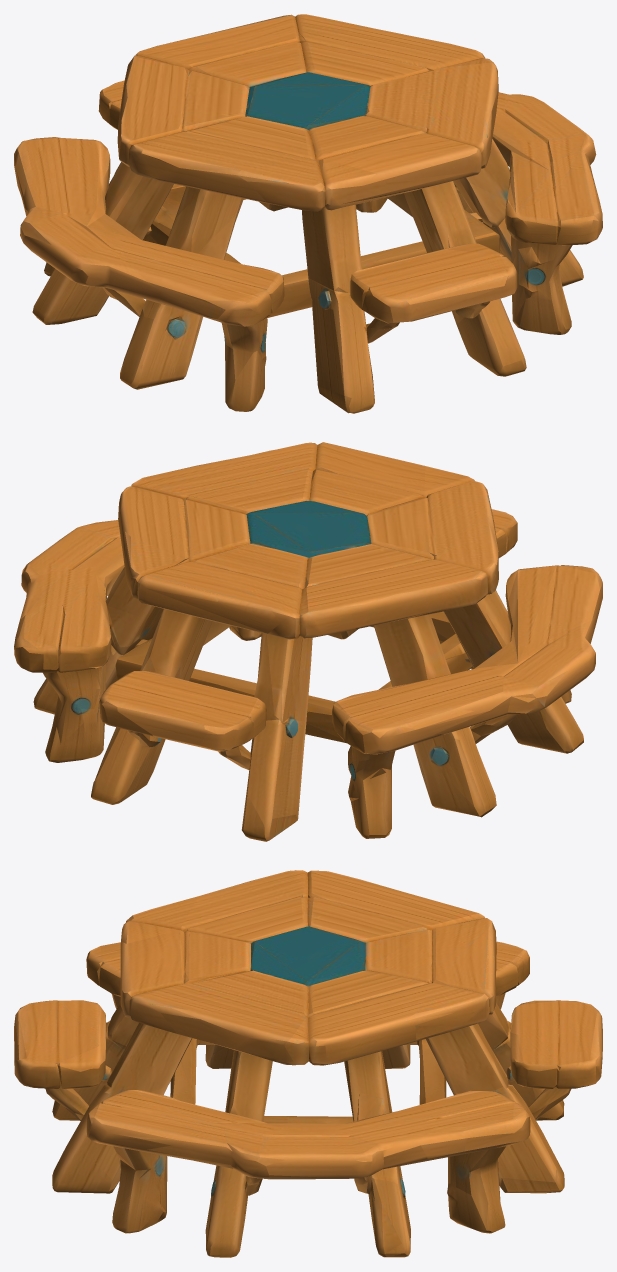
Rendered from model-village-expansion-picnicTable-87b8f46d2203.glb.
3 renders of one model, top to bottom at view 1: azimuth 30°, elevation 25°; view 2: azimuth 150°, elevation 25°; view 3: azimuth 270°, elevation 25°, orthographic.
Parts seen in each view (by area): view 1: Mesh_0; view 2: Mesh_0; view 3: Mesh_0.
Part boxes in pixels (x1,y1,x2,y2): Mesh_0: (14, 14, 602, 413); Mesh_0: (14, 442, 602, 841); Mesh_0: (14, 870, 602, 1257).
Size of the model in its own units: 0.8027 by 0.2987 by 0.8.
1 material, 1 textured.
